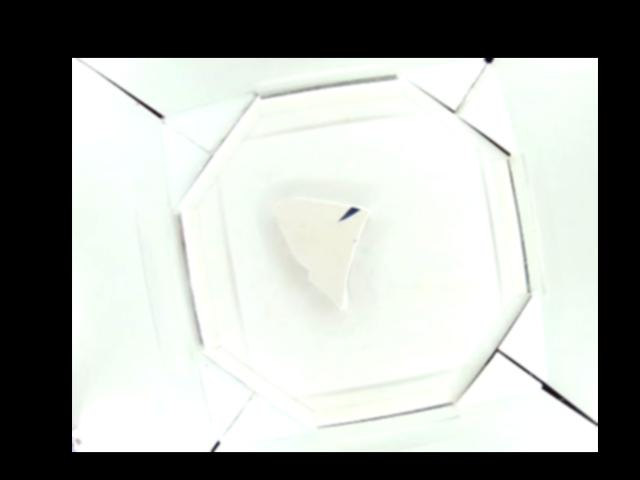China: (270, 195, 368, 308)
